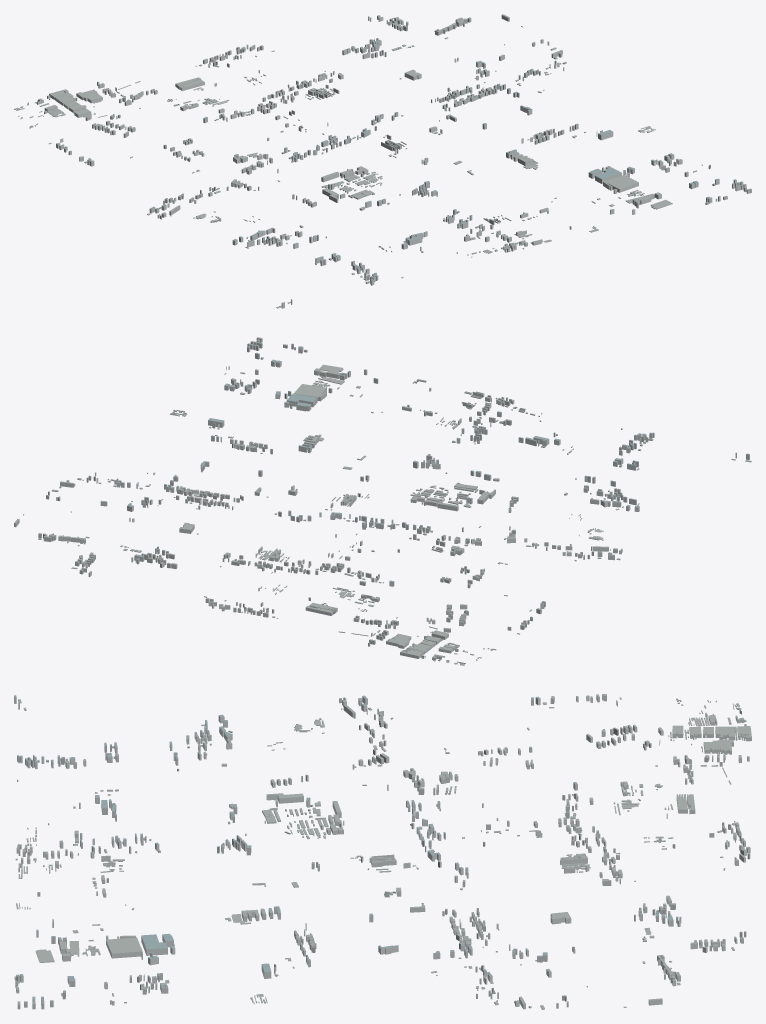
Rendered from far.glb.
The picture shows the model from 3 angles, top to bottom: view 1: azimuth 30°, elevation 25°; view 2: azimuth 150°, elevation 25°; view 3: azimuth 270°, elevation 25°; orthographic projection. The views are drawn at different scales.
Bounding box in the file's own units: 2102 × 23.6 × 2102.
